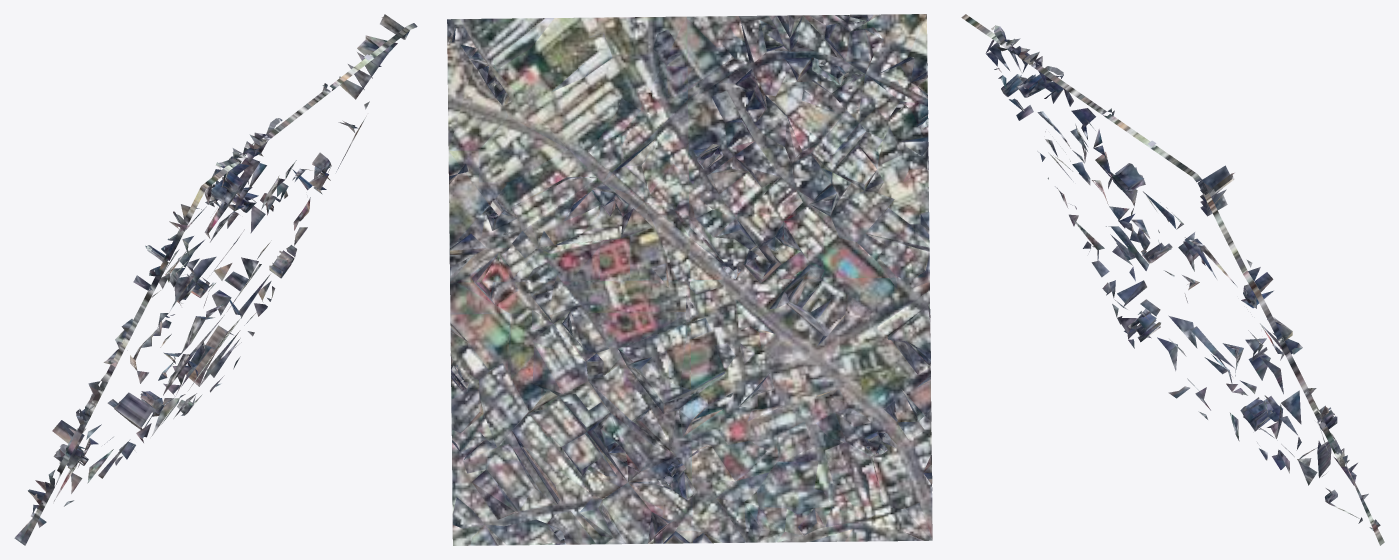
The picture shows the model from 3 angles, left to right: view 1: azimuth 30°, elevation 25°; view 2: azimuth 150°, elevation 25°; view 3: azimuth 270°, elevation 25°; orthographic projection. The views are drawn at different scales.
Size of the model in its own units: 1234 by 1122 by 1031.
Materials: 2 (2 with a texture image).
